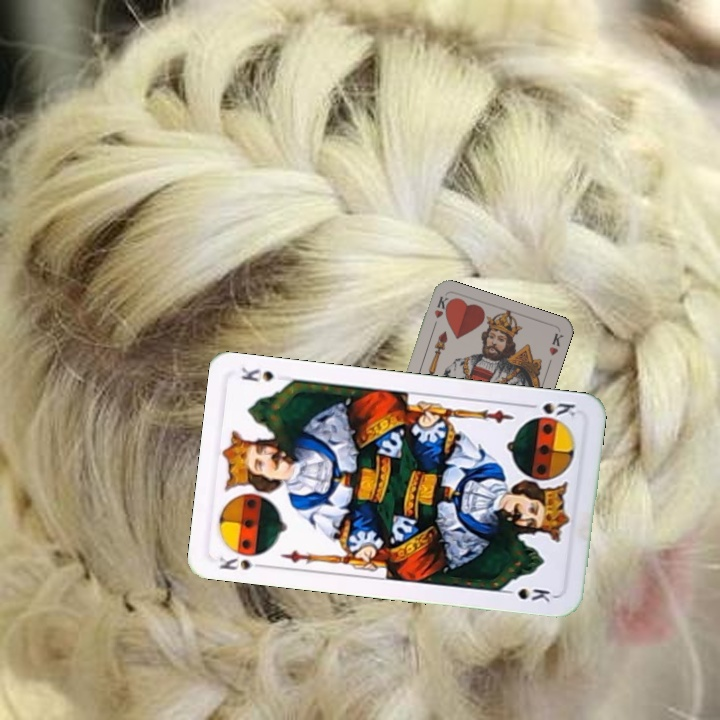HK: (428, 292, 452, 333)
SK: (521, 398, 580, 419), (215, 553, 271, 573)
